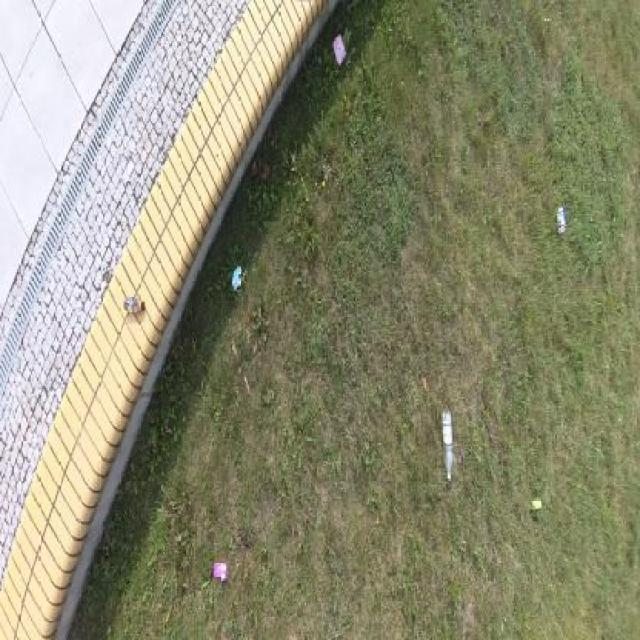Garbage: (441, 411, 453, 481), (332, 33, 347, 66), (556, 199, 566, 235), (124, 296, 143, 313), (233, 264, 242, 292), (214, 560, 227, 578), (531, 497, 541, 513)
